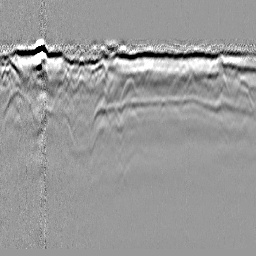cavity: (120, 75, 139, 99)
